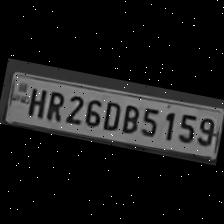1: (157, 107, 179, 141)
2: (60, 90, 86, 127)
5: (136, 104, 163, 140), (172, 110, 199, 146)
6: (81, 94, 105, 129)
9: (192, 113, 219, 148)
B: (117, 100, 141, 136)
D: (98, 97, 124, 132)
H: (23, 84, 48, 119)
R: (42, 88, 67, 122)
